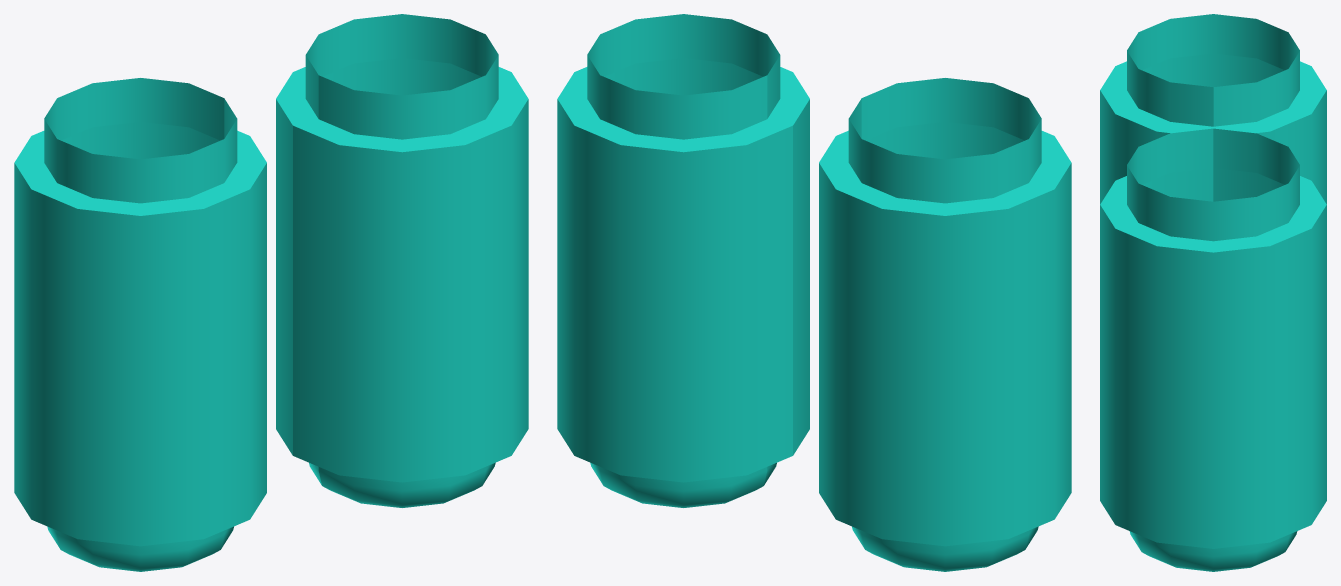
The model's file is CableTower01_canisters.fbx.
3 renders of one model, left to right at view 1: azimuth 30°, elevation 25°; view 2: azimuth 150°, elevation 25°; view 3: azimuth 270°, elevation 25°, orthographic. The views are drawn at different scales.
Parts seen in each view (by area): view 1: CableTower01_canisters; view 2: CableTower01_canisters; view 3: CableTower01_canisters.
Boxes of the visible parts, box(x1,y1,x2,y2) form: CableTower01_canisters: box(14, 14, 528, 571); CableTower01_canisters: box(557, 14, 1071, 571); CableTower01_canisters: box(1100, 14, 1326, 571).
Size of the model in its own units: 76.23 by 63.45 by 34.72.
